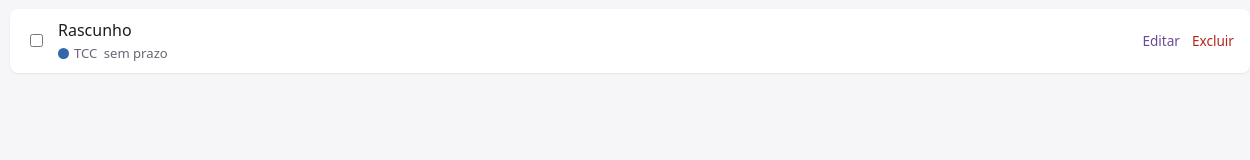
Test: TaskRow › edita texto, prazo e projeto (spec H5)
Click the button named "Editar \"Rascunho\"". click: coordinates (1161, 41)
box: x1=1138 y1=27 x2=1184 y2=55
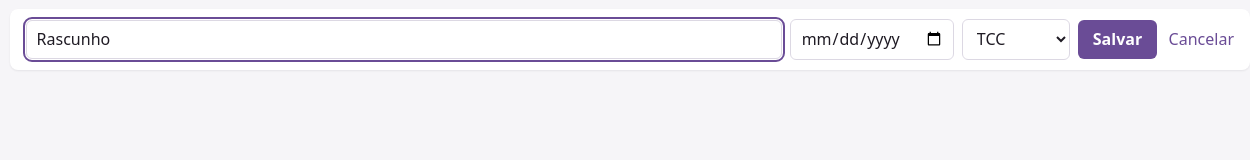
Replace the text in the field named "Título" with "Versão final". click: coordinates (404, 39)
box: x1=26 y1=20 x2=782 y2=59
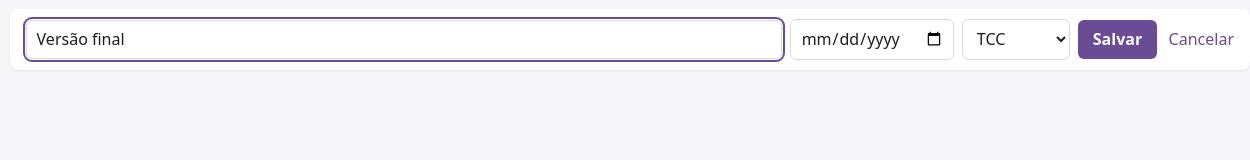
Type "2026-12-01" into the date field named "Prazo". click: coordinates (872, 39)
box: x1=790 y1=19 x2=954 y2=60
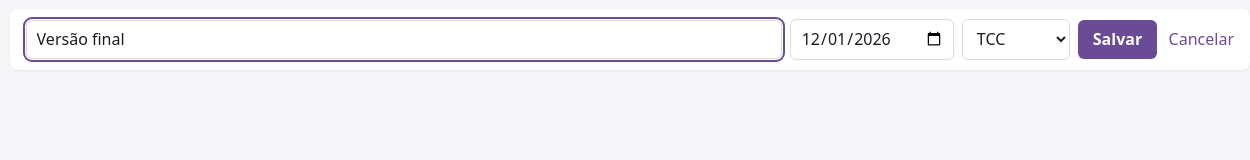
Select "Cliente A" in the dropdown named "Projeto". click: coordinates (1016, 39)
box: x1=962 y1=19 x2=1070 y2=60
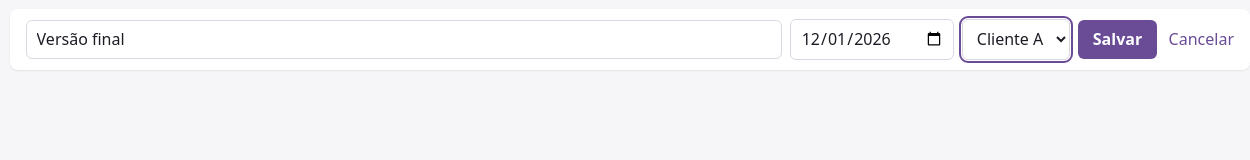
Click the button "Salvar". click: coordinates (1118, 39)
box: x1=1078 y1=20 x2=1157 y2=59
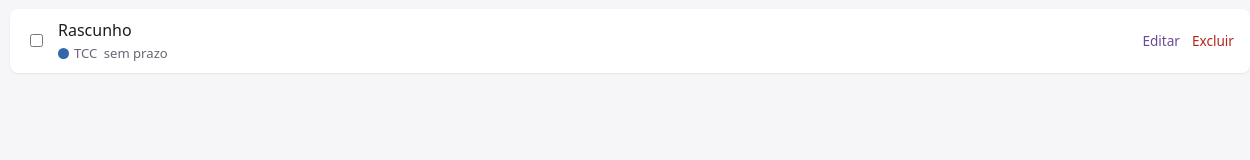
Expected: the button "Salvar" is gone
